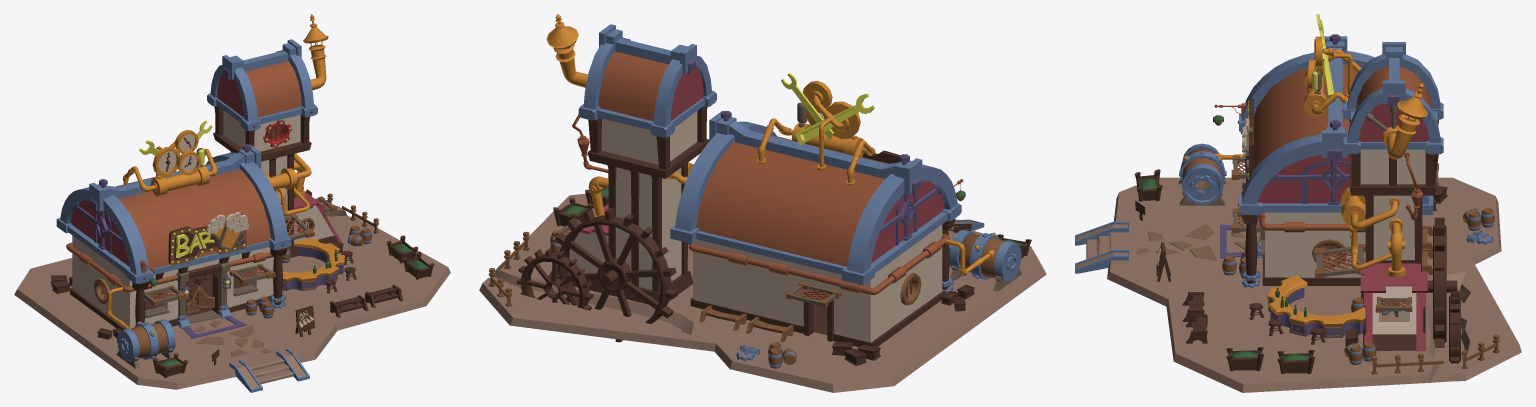
Rendered from Steam Punk Bar_fin.fbx.
3 views of the same model, side by side, from view 1: azimuth 30°, elevation 25°; view 2: azimuth 150°, elevation 25°; view 3: azimuth 270°, elevation 25° (orthographic). The views are drawn at different scales.
Visible parts, largest first — view 1: pCube396, polySurface2994, polySurface2944, polySurface2975, polySurface2950, polySurface2148, polySurface2159, polySurface2103, polySurface2973, bar_countertop, polySurface2076, polySurface2226 (+34 smaller); view 2: pCube396, polySurface2994, polySurface2944, polySurface2965, polySurface2218, polySurface2975, polySurface2950, polySurface2159, polySurface2226, polySurface2148, wheel1, polySurface2973 (+33 smaller); view 3: pCube396, polySurface2994, polySurface2944, polySurface2974, polySurface2148, polySurface2218, polySurface2159, polySurface2965, bar_countertop, polySurface2869, polySurface2076, polySurface2950 (+39 smaller).
Boxes of the visible parts, left/top/right/bottom form: pCube396: left=14, top=205, right=450, bottom=389; polySurface2994: left=115, top=161, right=270, bottom=269; polySurface2944: left=72, top=235, right=273, bottom=327; polySurface2975: left=245, top=61, right=301, bottom=117; polySurface2950: left=60, top=187, right=149, bottom=275; polySurface2148: left=206, top=152, right=287, bottom=241; polySurface2159: left=223, top=110, right=300, bottom=151; polySurface2103: left=168, top=214, right=246, bottom=265; polySurface2973: left=70, top=200, right=129, bottom=266; bar_countertop: left=282, top=238, right=344, bottom=281; polySurface2076: left=210, top=65, right=257, bottom=122; polySurface2226: left=108, top=152, right=244, bottom=198; pCube396: left=479, top=194, right=1046, bottom=392; polySurface2994: left=696, top=132, right=888, bottom=266; polySurface2944: left=693, top=224, right=942, bottom=342; polySurface2965: left=554, top=208, right=678, bottom=342; polySurface2218: left=616, top=167, right=681, bottom=289; polySurface2975: left=598, top=51, right=668, bottom=121; polySurface2950: left=847, top=164, right=957, bottom=273; polySurface2159: left=601, top=111, right=697, bottom=164; polySurface2226: left=728, top=121, right=898, bottom=178; polySurface2148: left=675, top=121, right=776, bottom=231; wheel1: left=516, top=248, right=593, bottom=310; polySurface2973: left=871, top=181, right=944, bottom=263; pCube396: left=1107, top=177, right=1521, bottom=392; polySurface2994: left=1254, top=64, right=1357, bottom=168; polySurface2944: left=1265, top=212, right=1365, bottom=277; polySurface2974: left=1257, top=154, right=1365, bottom=203; polySurface2148: left=1242, top=134, right=1428, bottom=204; polySurface2218: left=1373, top=195, right=1414, bottom=320; polySurface2159: left=1360, top=149, right=1425, bottom=184; polySurface2965: left=1433, top=217, right=1446, bottom=347; bar_countertop: left=1266, top=275, right=1365, bottom=326; polySurface2869: left=1360, top=263, right=1427, bottom=292; polySurface2076: left=1347, top=54, right=1440, bottom=109; polySurface2950: left=1242, top=51, right=1374, bottom=121.
Bounding box in the file's own units: 3778 × 2516 × 3407.
